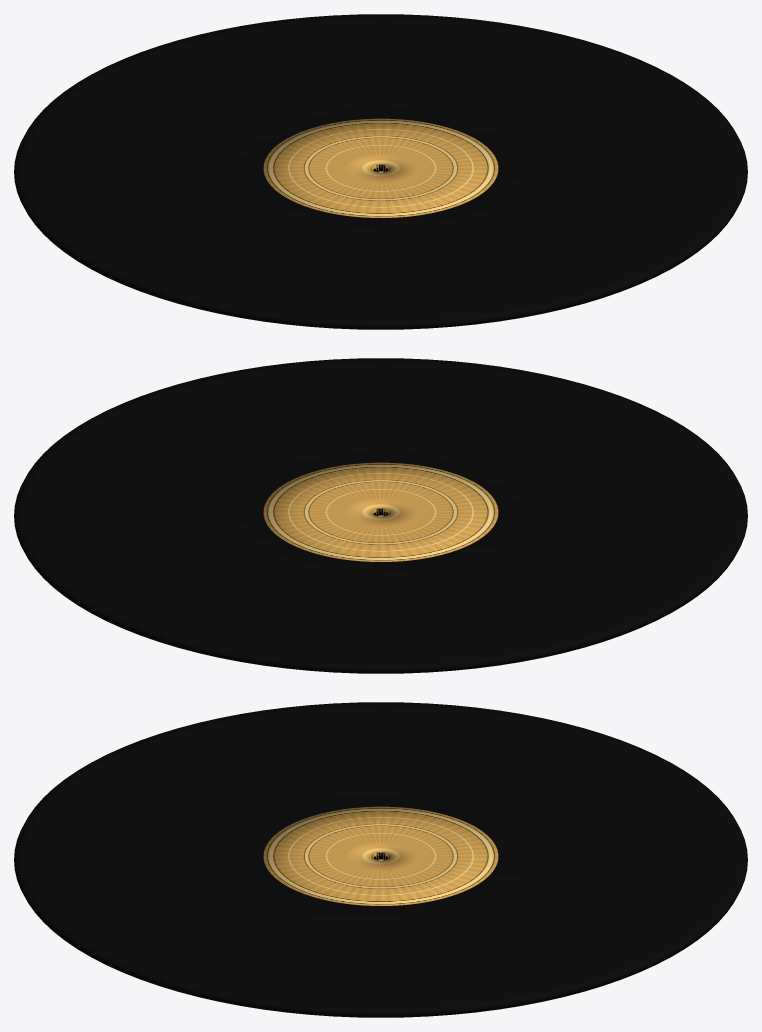
Rendered from vinyl-record-web.glb.
3 views of the same model, one above another, from view 1: azimuth 30°, elevation 25°; view 2: azimuth 150°, elevation 25°; view 3: azimuth 270°, elevation 25° (orthographic).
Visible parts, largest first — view 1: Vinyl_Body, Vinyl_Label; view 2: Vinyl_Body, Vinyl_Label; view 3: Vinyl_Body, Vinyl_Label.
Boxes of the visible parts, left/top/right/bottom form: Vinyl_Body: left=14, top=14, right=747, bottom=329; Vinyl_Label: left=263, top=118, right=498, bottom=217; Vinyl_Body: left=14, top=358, right=747, bottom=673; Vinyl_Label: left=263, top=462, right=498, bottom=561; Vinyl_Body: left=14, top=702, right=747, bottom=1017; Vinyl_Label: left=263, top=806, right=498, bottom=905.
Bounding box in the file's own units: 3 × 0.0332 × 3.
2 materials, 2 textured.
